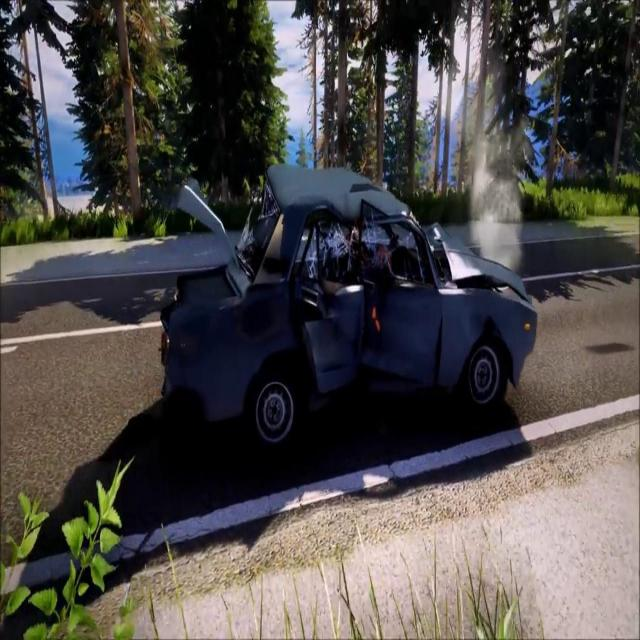accident: (156, 164, 540, 453)
